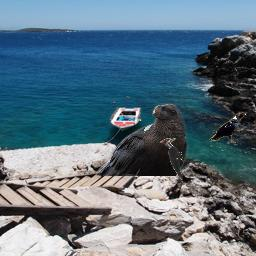Crow: (94, 102, 189, 176), (209, 112, 247, 143)
Woodpecker: (160, 138, 183, 183)
